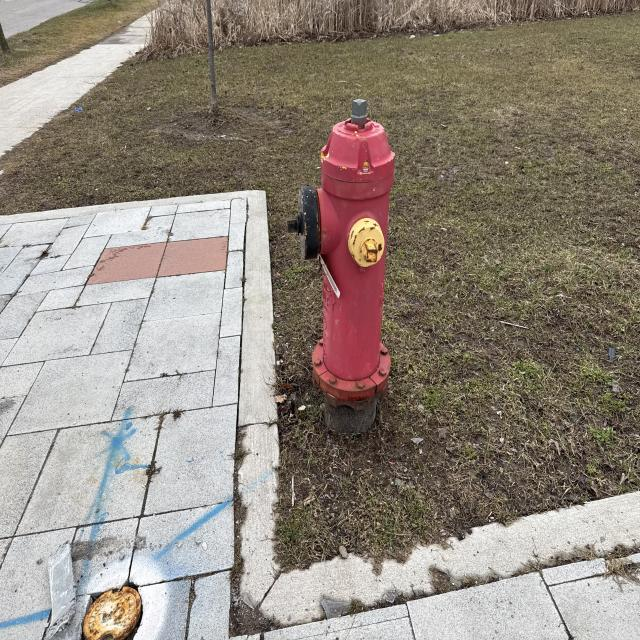Fire hydrant: (286, 98, 396, 412)
